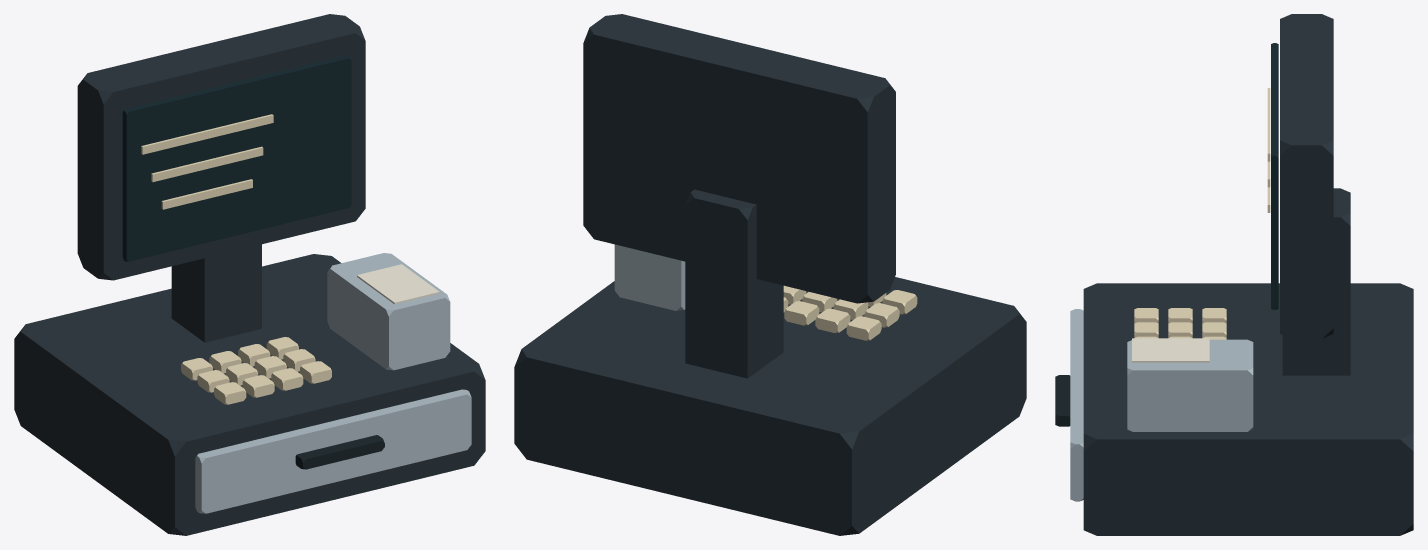
File: CashRegister.glb
3 renders of one model, left to right at view 1: azimuth 30°, elevation 25°; view 2: azimuth 150°, elevation 25°; view 3: azimuth 270°, elevation 25°, orthographic. The views are drawn at different scales.
Visible parts, largest first — view 1: CashRegister; view 2: CashRegister; view 3: CashRegister.
Part boxes in pixels (box(x1,y1,x2,y2)): CashRegister: box(14, 14, 485, 535); CashRegister: box(514, 14, 1026, 535); CashRegister: box(1055, 14, 1413, 535).
Size of the model in its own units: 0.38 by 0.43 by 0.369.
